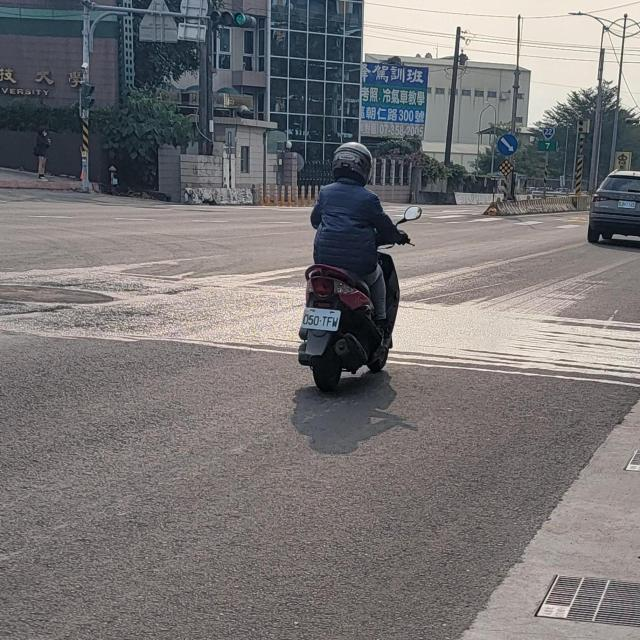W: (300, 306, 342, 334), (617, 198, 637, 209)
